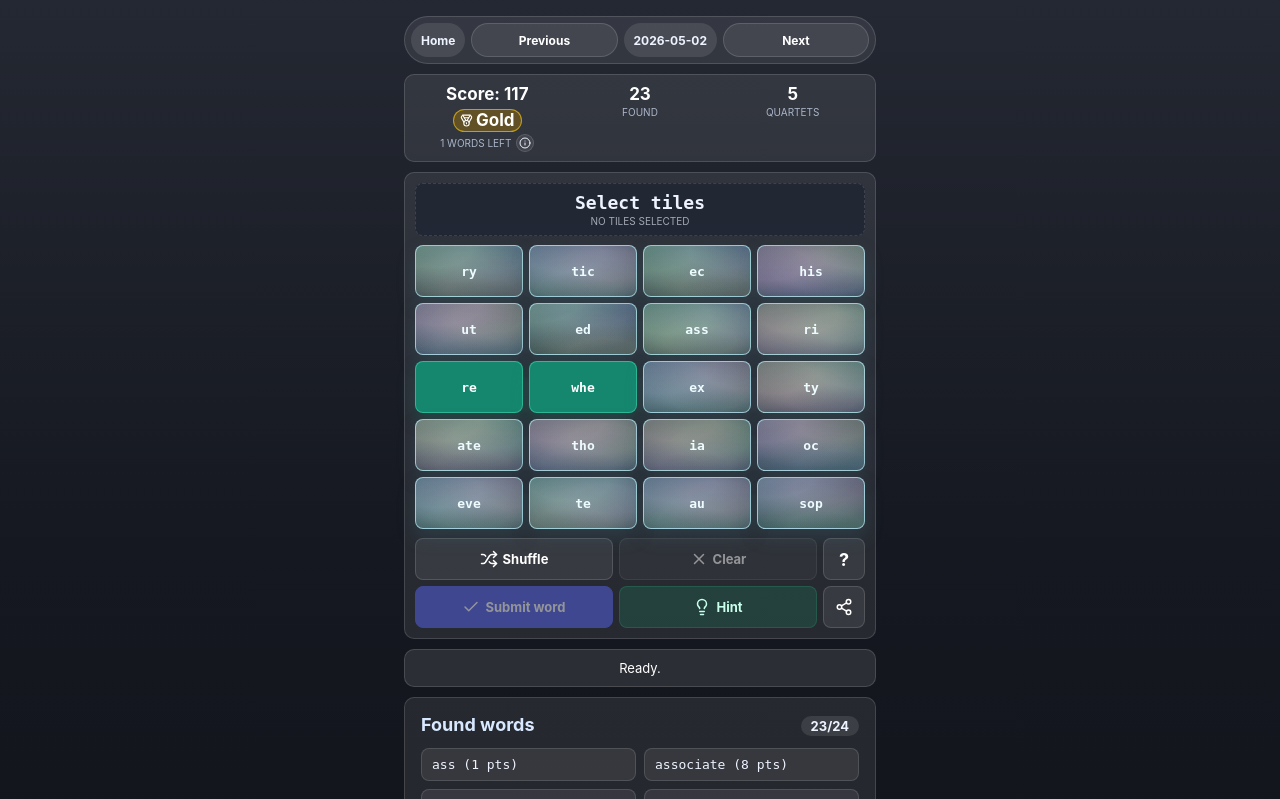
Scenario: lexitiles app › celebrates full completion and adds the platinum shine state to the tile grid
Click the button "whe": (583, 387) x1=529 y1=361 x2=637 y2=413
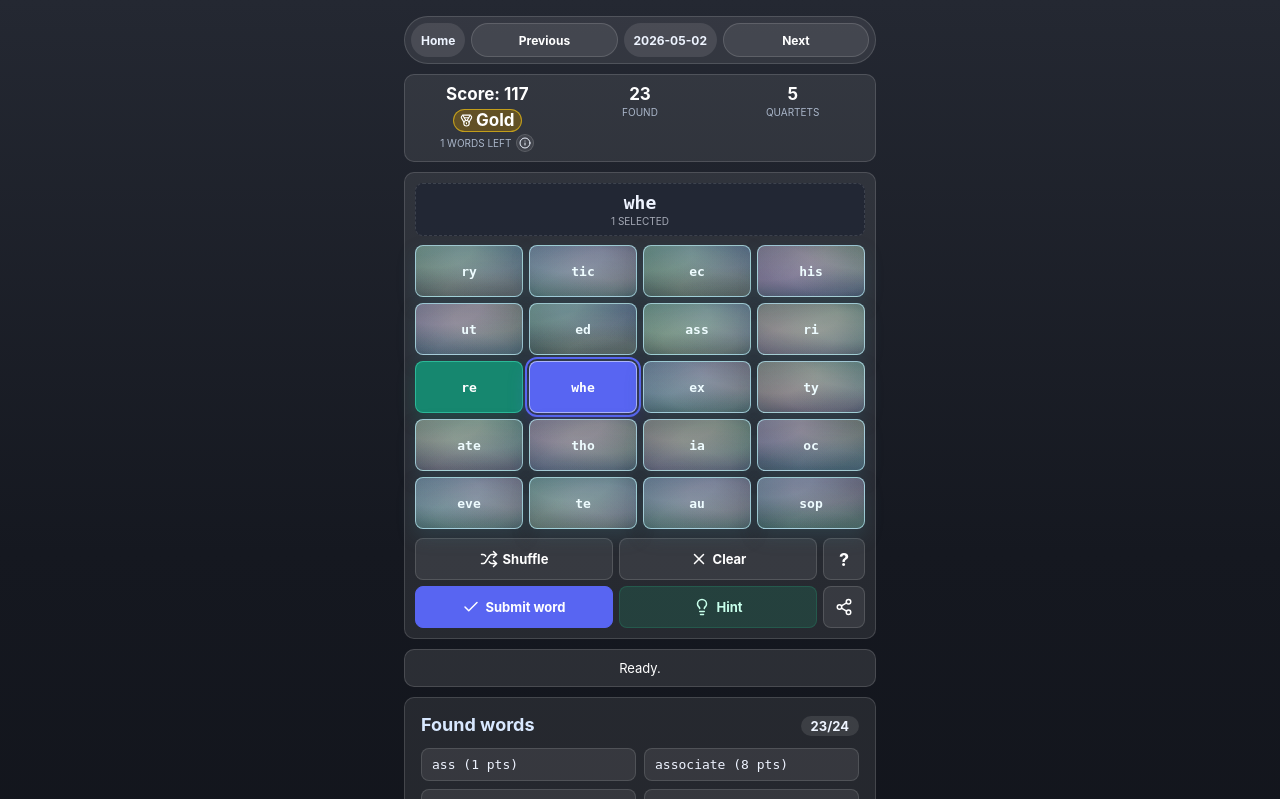
Click the button "re": (469, 387) x1=415 y1=361 x2=523 y2=413
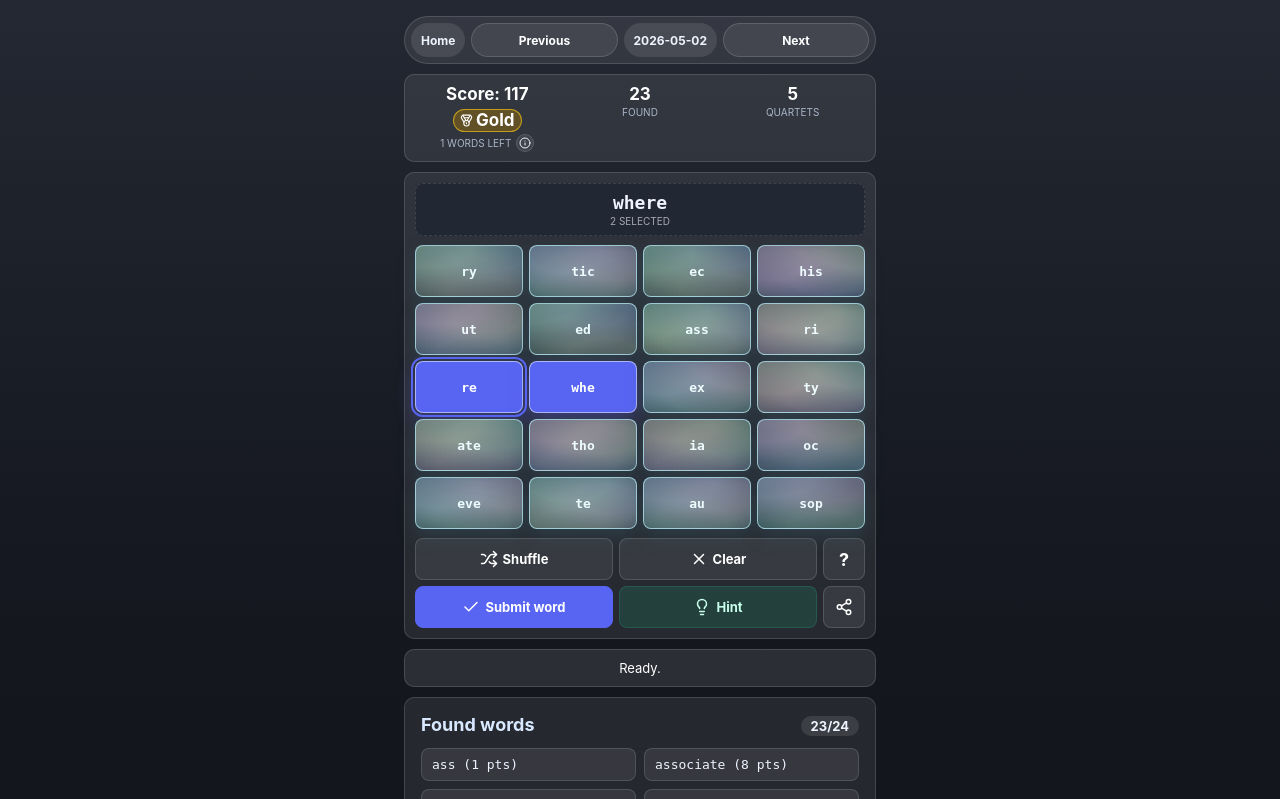
Click the button "Submit word": (514, 607) x1=415 y1=586 x2=613 y2=628
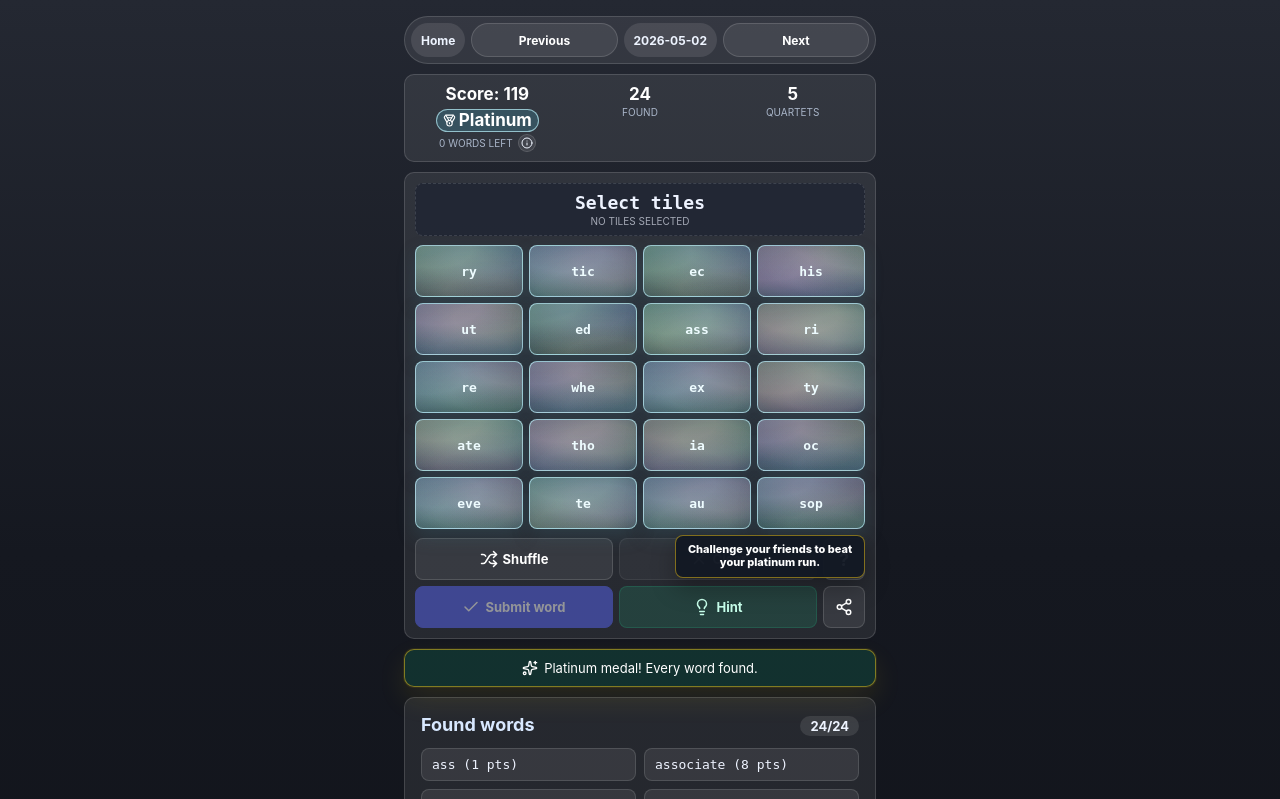
Expected: the message shows "Platinum medal", x1=544 y1=660 x2=758 y2=676
Expected: the message shows "Every word", x1=544 y1=660 x2=758 y2=676
